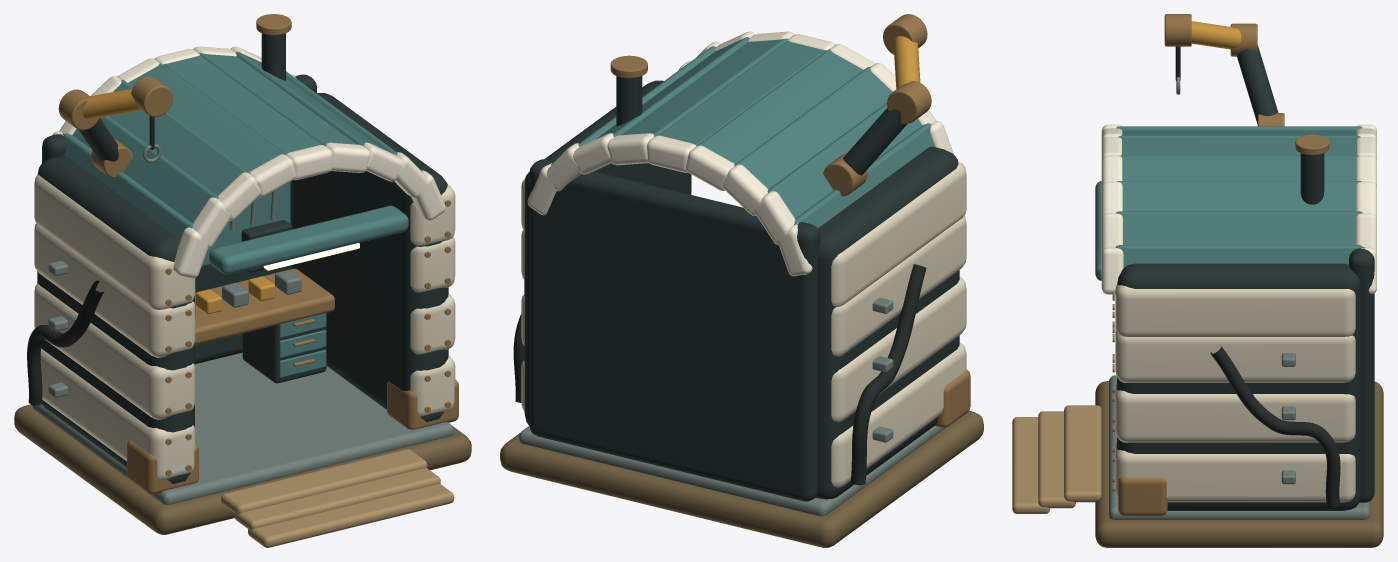
The model's file is prop_workshop.glb.
3 views of the same model, side by side, from view 1: azimuth 30°, elevation 25°; view 2: azimuth 150°, elevation 25°; view 3: azimuth 270°, elevation 25° (orthographic). The views are drawn at different scales.
Visible parts, largest first — view 1: Floor deck, Structural pier.001, Structural pier, Foundation, Ivory armor panel.003, Ivory armor panel.002, Ivory armor panel.001, Ivory armor panel, Entry eyebrow, Curved roof segment.003, Entry stair, Tool bench (+42 smaller); view 2: Rear bulkhead, Foundation, Structural pier, Ivory armor panel.003, Curved roof segment.002, Curved roof segment.003, Ivory armor panel.002, Ivory armor panel.001, Ivory armor panel, Curved roof segment.004, Floor deck, Structural pier.001 (+24 smaller); view 3: Structural pier.001, Ivory armor panel.007, Foundation, Ivory armor panel.006, Ivory armor panel.005, Ivory armor panel.004, Curved roof segment.007, Curved roof segment.006, Curved roof segment.005, Curved roof segment.008, Rear bulkhead, Curved roof segment.004 (+22 smaller).
Part boxes in pixels (x1,y1,x2,y2): Floor deck: (32,352,453,504); Structural pier.001: (291,93,448,421); Structural pier: (37,155,194,483); Foundation: (14,404,471,534); Ivory armor panel.003: (34,174,195,309); Ivory armor panel.002: (34,223,195,357); Ivory armor panel.001: (34,283,195,419); Ivory armor panel: (40,348,195,479); Entry eyebrow: (209,205,408,274); Curved roof segment.003: (128,63,286,171); Entry stair: (221,449,427,514); Tool bench: (195,268,334,344); Rear bulkhead: (529,159,820,501); Foundation: (500,410,983,547); Structural pier: (816,146,959,499); Ivory armor panel.003: (831,161,966,306); Curved roof segment.002: (734,67,892,189); Curved roof segment.003: (696,49,863,163); Ivory armor panel.002: (831,215,966,356); Ivory armor panel.001: (831,277,966,422); Ivory armor panel: (831,342,966,487); Curved roof segment.004: (658,41,826,145); Floor deck: (519,426,945,516); Structural pier.001: (524,80,691,425); Structural pier.001: (1117,263,1361,510); Ivory armor panel.007: (1115,285,1355,336); Foundation: (1095,381,1383,547); Ivory armor panel.006: (1115,328,1355,382); Ivory armor panel.005: (1115,383,1355,442); Ivory armor panel.004: (1115,442,1355,502); Curved roof segment.007: (1116,211,1362,244); Curved roof segment.006: (1117,181,1361,211); Curved roof segment.005: (1119,155,1359,180); Curved roof segment.008: (1115,245,1362,267); Rear bulkhead: (1349,247,1374,502); Curved roof segment.004: (1121,138,1357,155).
Size of the model in its own units: 3.24 by 3.79 by 3.16.
